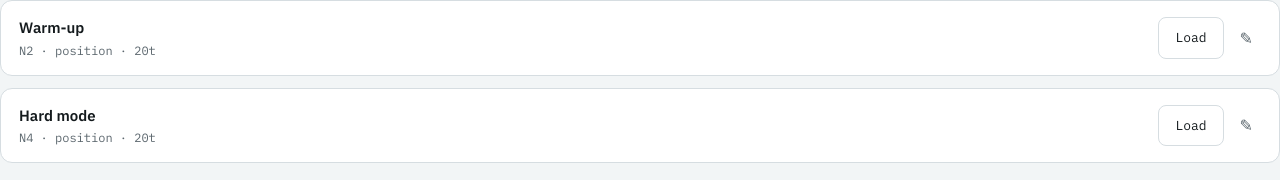
Test: PresetList › shows an inline rename input when the rename button is clicked
Click the button named "rename warm-up": (1246, 38) x1=1232 y1=18 x2=1261 y2=58
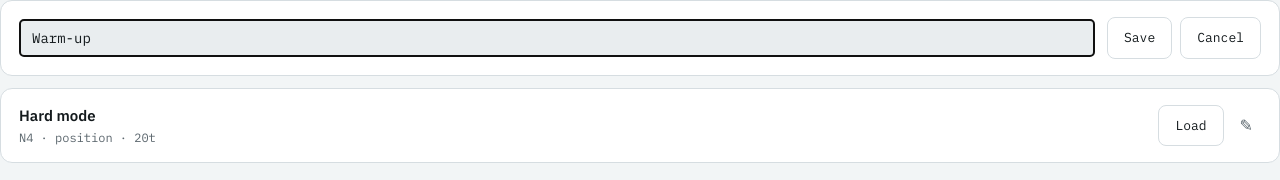
Now the field named "new name for warm-up" holds "Warm-up", box x1=19 y1=19 x2=1095 y2=57
